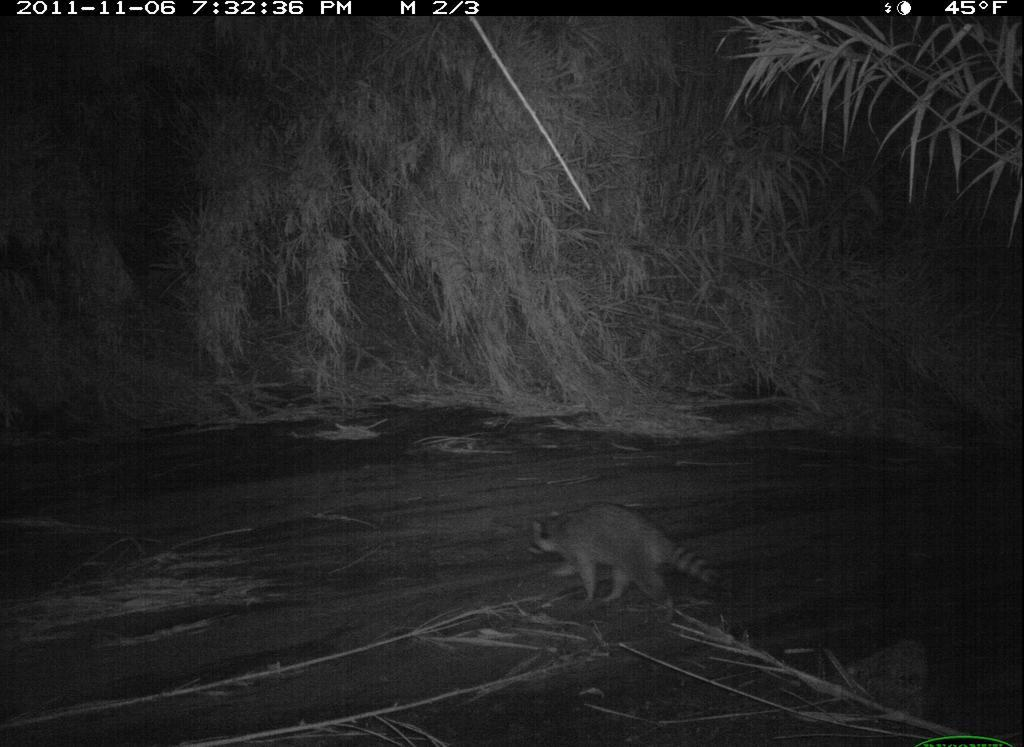raccoon: (519, 501, 724, 635)
